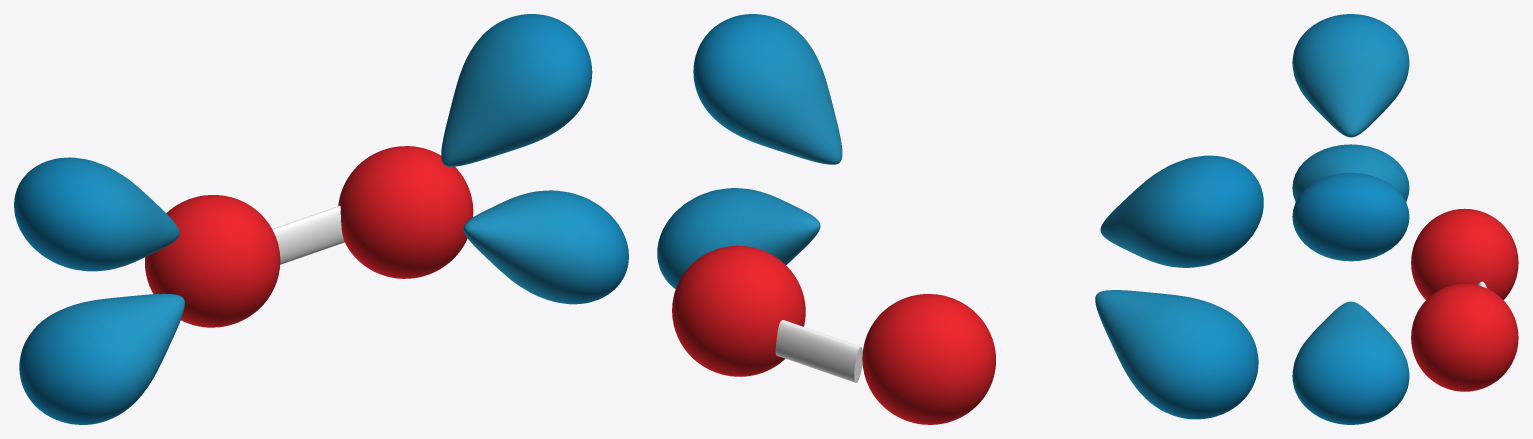
The model's file is asset.glb.
3 views of the same model, side by side, from view 1: azimuth 30°, elevation 25°; view 2: azimuth 150°, elevation 25°; view 3: azimuth 270°, elevation 25° (orthographic). The views are drawn at different scales.
Parts seen in each view (by area): view 1: node_id77, node_id79, mesh_id35, node_id65, node_id87, mesh_id50, mesh_id52; view 2: node_id77, node_id79, mesh_id50, mesh_id35, node_id87, node_id65, mesh_id52; view 3: node_id65, node_id87, mesh_id35, node_id77, mesh_id50, node_id79.
Part boxes in pixels (box(x1,y1,x2,y2)): node_id77: box(441, 14, 592, 166); node_id79: box(19, 293, 184, 424); mesh_id35: box(338, 146, 473, 278); node_id65: box(463, 190, 628, 304); node_id87: box(14, 157, 179, 271); mesh_id50: box(145, 195, 280, 327); mesh_id52: box(272, 205, 344, 264); node_id77: box(693, 14, 842, 164); node_id79: box(1095, 290, 1258, 419); mesh_id50: box(862, 294, 995, 424); mesh_id35: box(672, 245, 805, 376); node_id87: box(1100, 155, 1263, 267); node_id65: box(657, 188, 820, 288); mesh_id52: box(775, 320, 862, 382); node_id65: box(1292, 301, 1409, 424); node_id87: box(1292, 14, 1409, 137); mesh_id35: box(1411, 283, 1518, 391); node_id77: box(1292, 172, 1409, 261); mesh_id50: box(1411, 208, 1518, 299); node_id79: box(1292, 144, 1409, 201).
Size of the model in its own units: 0.6933 by 0.3231 by 0.2825.
Materials: 3 (3 with a texture image).
